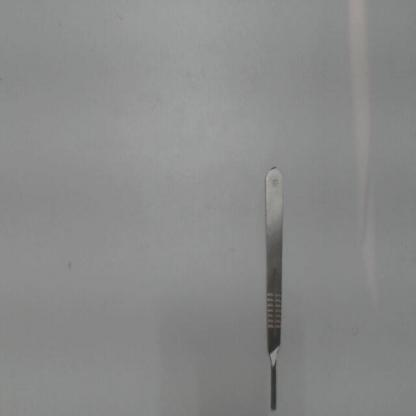No.4 BP Handle: (255, 160, 288, 414)
